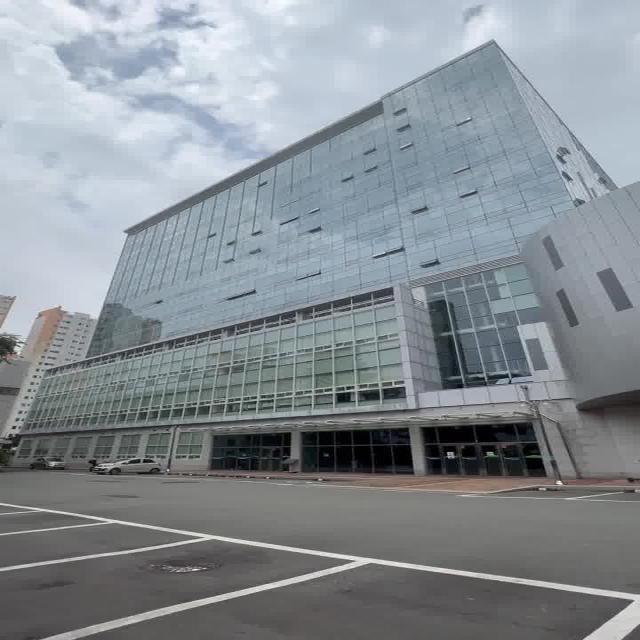building: (117, 140, 626, 444)
